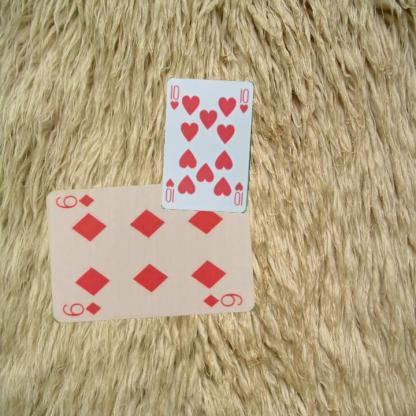10h: (167, 83, 181, 111), (232, 180, 244, 207)
6d: (60, 299, 102, 318)
